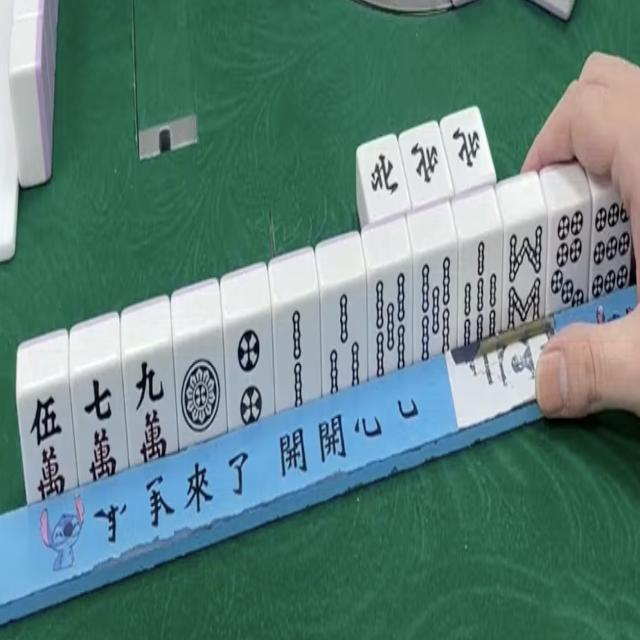1D: (175, 335, 231, 444)
2B: (274, 300, 325, 410)
2D: (224, 318, 275, 424)
3B: (323, 287, 371, 396)
5B: (370, 274, 412, 383), (418, 251, 456, 364)
5C: (20, 385, 81, 502)
7B: (461, 232, 499, 343)
7C: (73, 366, 132, 483)
7D: (548, 207, 587, 309)
8B: (504, 223, 548, 331)
9C: (123, 348, 180, 463)
9D: (590, 193, 632, 303)
NW: (443, 112, 490, 182), (358, 142, 406, 206), (402, 131, 449, 192)
